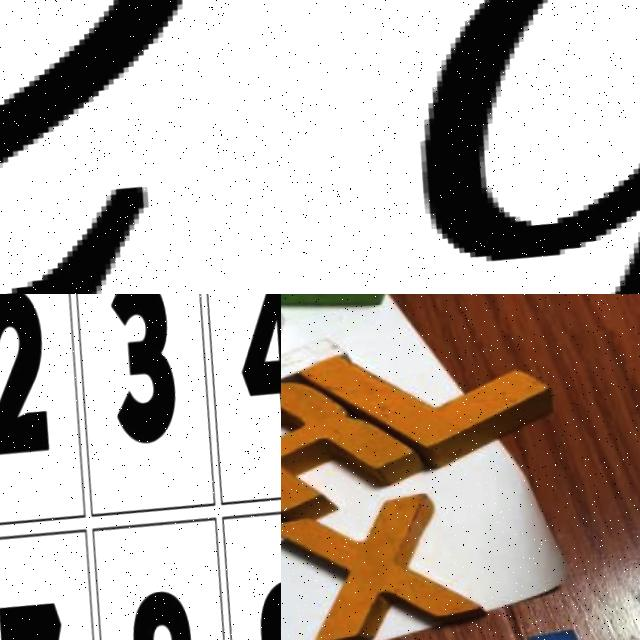2: (0, 0, 281, 294), (0, 294, 72, 460)
3: (95, 294, 199, 445)
4: (223, 294, 281, 433)
7: (0, 586, 94, 640)
8: (121, 574, 225, 640)
9: (292, 0, 640, 294)
L: (324, 316, 571, 475)
R: (281, 360, 443, 540)
X: (281, 479, 503, 640)
